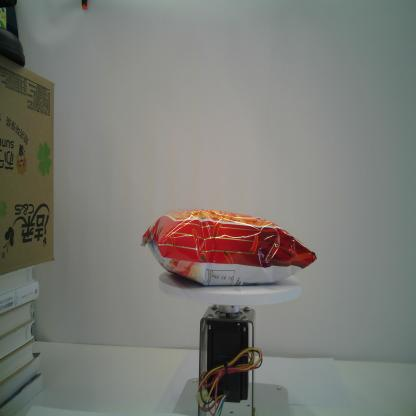Puffed Food: (140, 208, 317, 286)
